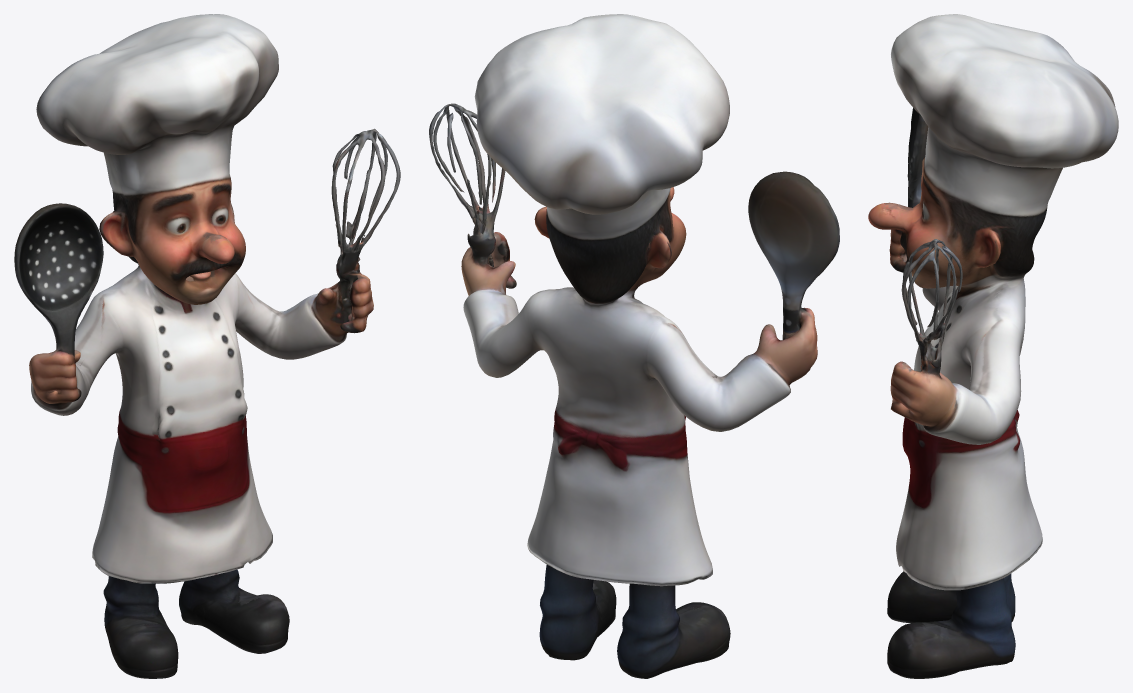
The model's file is i_want_a_chef_with_tw_1118134641_refine.glb.
3 renders of one model, left to right at view 1: azimuth 30°, elevation 25°; view 2: azimuth 150°, elevation 25°; view 3: azimuth 270°, elevation 25°, orthographic. The views are drawn at different scales.
Size of the model in its own units: 1.33 by 2 by 0.7403.
Materials: 1 (1 with a texture image).
